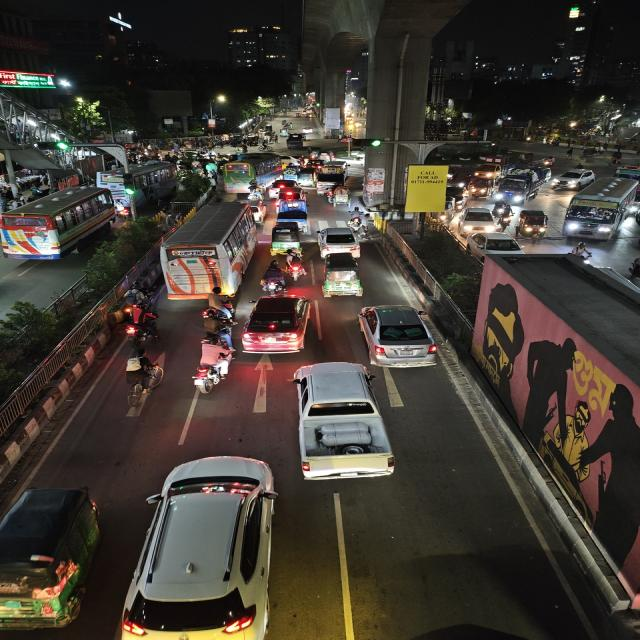bicycle: (120, 344, 164, 414), (258, 144, 273, 151)
bus: (160, 200, 260, 304), (0, 185, 119, 263), (562, 184, 635, 242), (113, 161, 180, 218), (222, 151, 286, 193)
car: (124, 451, 282, 640), (285, 359, 396, 491), (356, 302, 441, 372), (240, 292, 318, 358), (466, 231, 527, 259), (314, 226, 363, 256), (550, 167, 598, 192), (458, 207, 502, 234), (268, 178, 298, 198)
cng: (0, 483, 103, 634), (320, 252, 366, 300), (516, 208, 550, 240), (270, 220, 302, 254), (466, 176, 491, 198), (294, 171, 316, 190)
motorcycle: (120, 344, 164, 414), (190, 335, 234, 397), (120, 302, 161, 346), (203, 286, 236, 324), (258, 258, 285, 294), (282, 247, 307, 283), (570, 240, 594, 265), (626, 255, 640, 283), (499, 204, 512, 232)
pedestrian: (608, 148, 623, 165), (564, 146, 576, 159)
pickup_van: (495, 171, 542, 205), (274, 199, 311, 229), (317, 164, 348, 192), (285, 134, 306, 150)
rickshaw: (326, 185, 352, 209)
